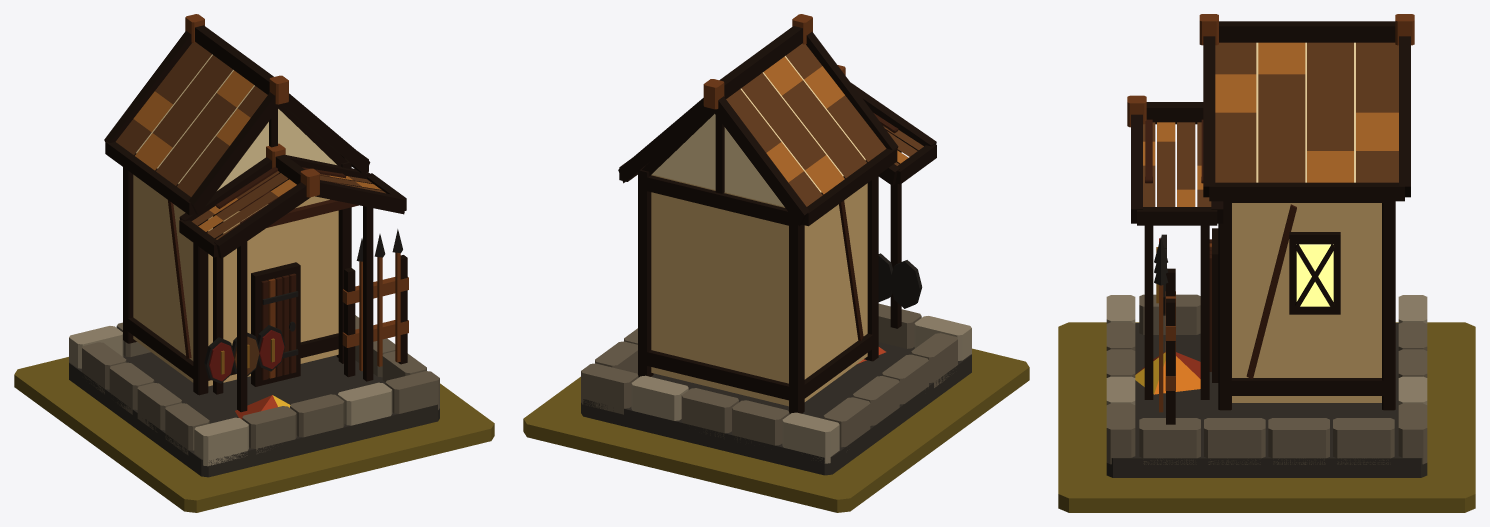
File: armory_t3.glb
3 views of the same model, side by side, from view 1: azimuth 30°, elevation 25°; view 2: azimuth 150°, elevation 25°; view 3: azimuth 270°, elevation 25° (orthographic). The views are drawn at different scales.
Parts seen in each view (by area): view 1: MMR | armory | T03 Architecture.001, MMR | armory | Tier 03 Ground.001; view 2: MMR | armory | T03 Architecture.001, MMR | armory | Tier 03 Ground.001; view 3: MMR | armory | T03 Architecture.001, MMR | armory | Tier 03 Ground.001, MMR | armory | T03 Autumn Dressing.001.
Part boxes in pixels (x1,y1,x2,y2): MMR | armory | T03 Architecture.001: [69, 14, 439, 477]; MMR | armory | Tier 03 Ground.001: [14, 357, 494, 512]; MMR | armory | T03 Architecture.001: [581, 14, 971, 475]; MMR | armory | Tier 03 Ground.001: [523, 348, 1029, 512]; MMR | armory | T03 Architecture.001: [1106, 14, 1427, 477]; MMR | armory | Tier 03 Ground.001: [1058, 322, 1475, 512]; MMR | armory | T03 Autumn Dressing.001: [1135, 352, 1200, 394].
Size of the model in its own units: 1.3 by 1.4 by 1.3.
2 materials, 1 textured.
